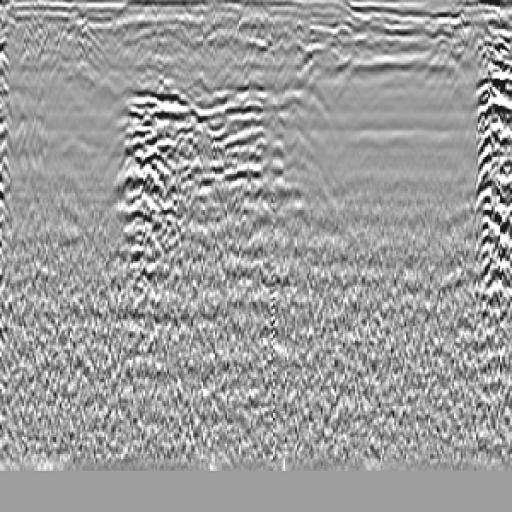metalic: (111, 67, 242, 302), (463, 76, 512, 354)
